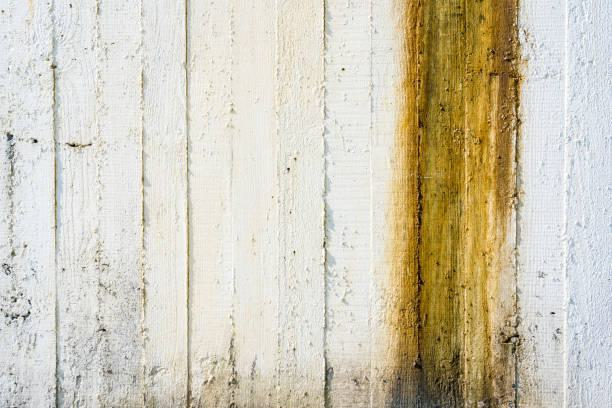Corrosion: (383, 1, 522, 408)
